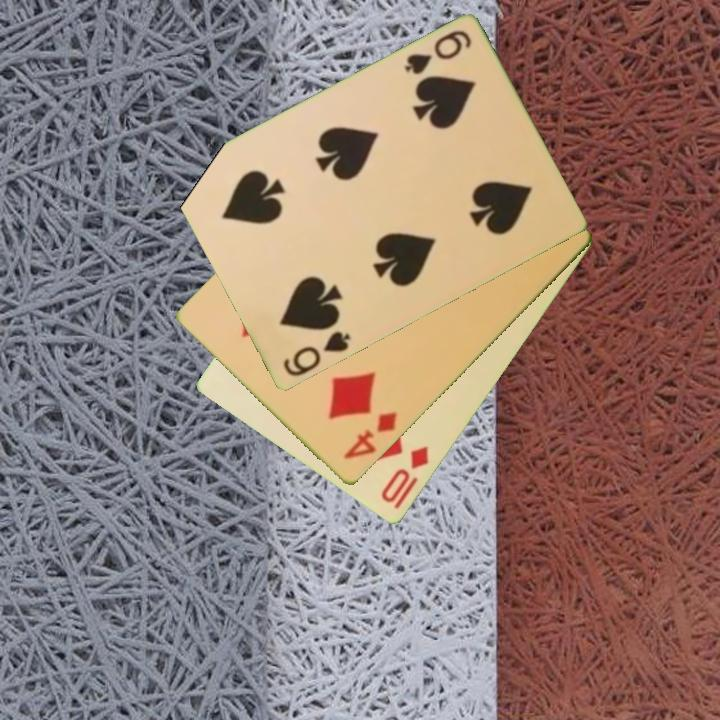10d: (377, 442, 432, 507)
4d: (339, 409, 401, 463)
6s: (279, 328, 354, 380), (400, 27, 475, 79)
